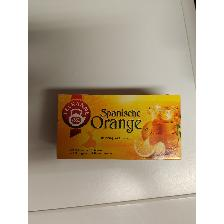Tee: (56, 92, 182, 162)
